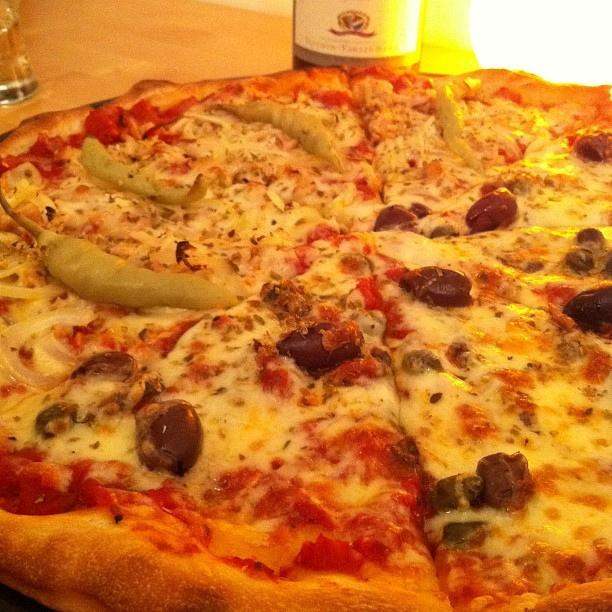onion: (0, 307, 95, 388), (9, 187, 57, 224), (0, 161, 43, 194), (183, 112, 232, 137), (112, 193, 152, 220), (278, 206, 322, 230), (41, 337, 78, 365), (2, 284, 64, 300), (500, 134, 524, 160), (128, 230, 162, 248), (314, 172, 344, 192), (420, 114, 435, 152), (266, 191, 284, 212), (0, 272, 19, 286)
